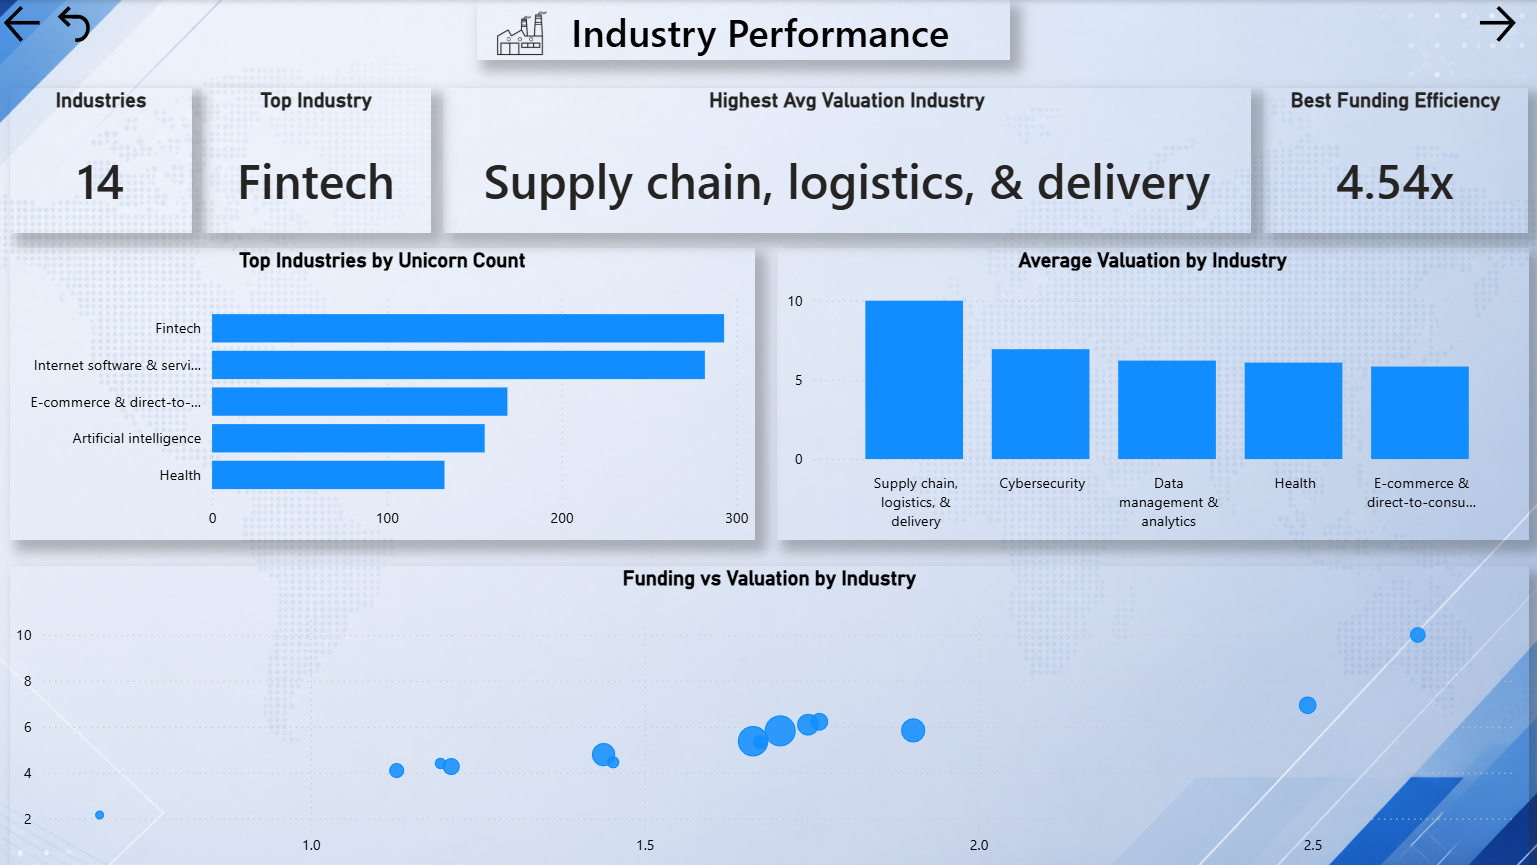

The page's visual inventory and layout, read from the dashboard file:
{"tool":"powerbi","page":{"name":"Industry Performance","canvas":[1280,720],"ordinal":2},"visuals":[{"type":"shape","box":[396.6,0,443.2,49.4],"z":0},{"type":"cardVisual","title":"Industries","fields":{"Data":["unicorn_companies.Industries Covered"]},"box":[9.6,72.7,150.9,120.8],"z":1000},{"type":"textbox","box":[470.7,0,337.6,54.9],"z":2000},{"type":"cardVisual","title":"Top Industry","fields":{"Data":["unicorn_companies.Top Industry"]},"box":[168.8,72.7,190.7,120.8],"z":3000},{"type":"cardVisual","title":"Highest Avg Valuation Industry","fields":{"Data":["unicorn_companies.Highest Avg Valuation Industry"]},"box":[369.1,72.7,672.4,120.8],"z":4000},{"type":"cardVisual","title":"Best Funding Efficiency","fields":{"Data":["unicorn_companies.Best Funding Efficiency Display"]},"box":[1051.1,72.7,220.9,120.8],"z":5000},{"type":"clusteredBarChart","title":"Top Industries by Unicorn Count","fields":{"Category":["unicorn_companies.Industry"],"Y":["unicorn_companies.Total Unicorns"]},"box":[9.6,205.8,618.9,242.9],"z":6000},{"type":"clusteredColumnChart","fields":{"Category":["unicorn_companies.Industry"],"Y":["unicorn_companies.Average Valuation"]},"box":[646.3,205.8,625.7,242.9],"z":7000},{"type":"scatterChart","title":"Funding vs Valuation by Industry","fields":{"Category":["unicorn_companies.Industry"],"X":["unicorn_companies.Average Funding Raised"],"Y":["unicorn_companies.Average Valuation"],"Size":["unicorn_companies.Total Unicorns"]},"box":[9.3,466.3,1262.8,250],"z":8000},{"type":"actionButton","box":[0,0,48,39.8],"z":9000},{"type":"image","box":[399.3,0,71.4,54.9],"z":10000},{"type":"actionButton","box":[42.5,0,52.1,39.8],"z":11000},{"type":"actionButton","box":[1225.1,0,54.9,39.8],"z":12000}]}

Visuals, with their boxes in screenshot pixels (x1, y1, x2, y2), scaled from the page's 1280x720 canvas onto the 1537x865 screenshot:
shape: x1=476 y1=0 x2=1008 y2=59
"Industries" cardVisual: x1=12 y1=87 x2=193 y2=232
textbox: x1=565 y1=0 x2=971 y2=66
"Top Industry" cardVisual: x1=203 y1=87 x2=432 y2=232
"Highest Avg Valuation Industry" cardVisual: x1=443 y1=87 x2=1251 y2=232
"Best Funding Efficiency" cardVisual: x1=1262 y1=87 x2=1527 y2=232
"Top Industries by Unicorn Count" clusteredBarChart: x1=12 y1=247 x2=755 y2=539
clusteredColumnChart - unicorn_companies.Industry x unicorn_companies.Average Valuation: x1=776 y1=247 x2=1527 y2=539
"Funding vs Valuation by Industry" scatterChart: x1=11 y1=560 x2=1528 y2=861
actionButton: x1=0 y1=0 x2=58 y2=48
image: x1=479 y1=0 x2=565 y2=66
actionButton: x1=51 y1=0 x2=114 y2=48
actionButton: x1=1471 y1=0 x2=1536 y2=48
